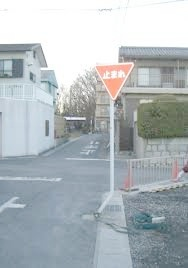Regulatory_sign_triangle: (91, 58, 141, 106)
